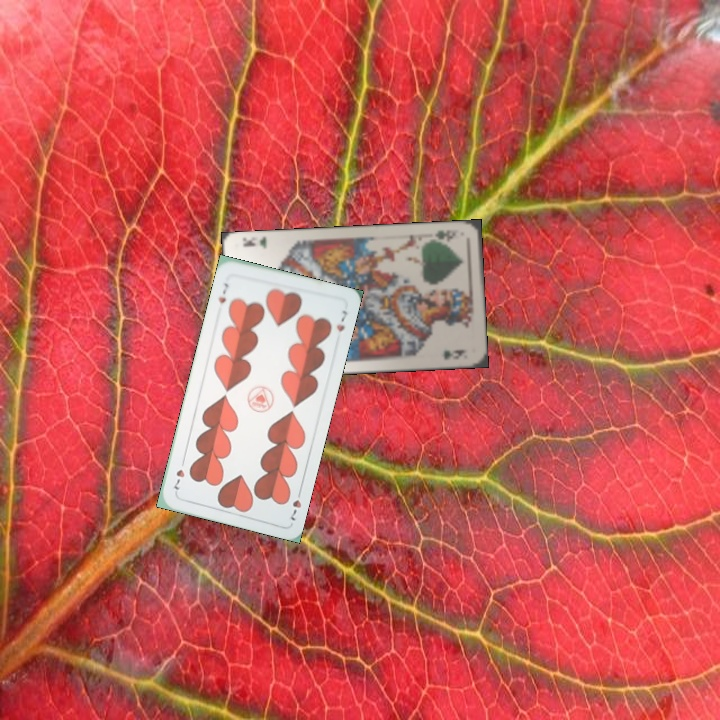GK: (431, 225, 459, 244)
H7: (286, 484, 304, 524), (214, 278, 232, 306)
